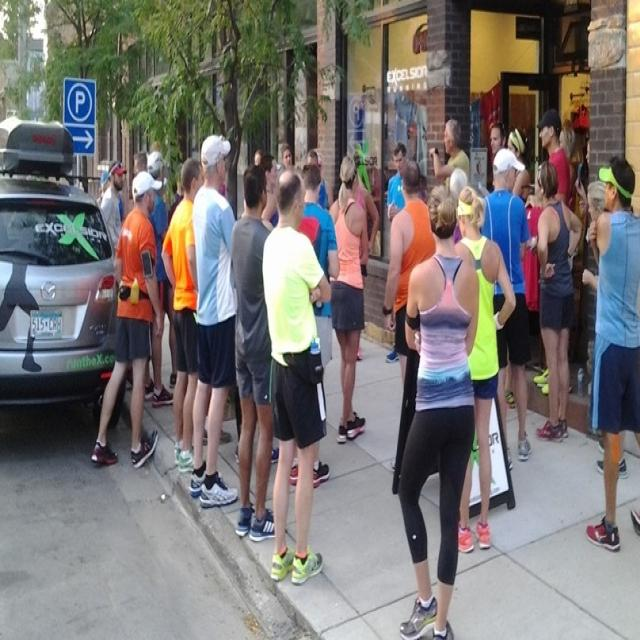body: (395, 181, 480, 638), (259, 161, 334, 586), (448, 186, 518, 553), (88, 168, 165, 470), (583, 152, 639, 554), (186, 132, 245, 509), (469, 145, 533, 474), (228, 162, 277, 545), (532, 157, 586, 445), (230, 166, 280, 471), (159, 154, 205, 475), (581, 178, 629, 482), (288, 160, 332, 490), (381, 156, 436, 394), (327, 153, 368, 447), (532, 105, 572, 396), (143, 149, 175, 409), (481, 114, 589, 190), (349, 154, 380, 364), (384, 140, 409, 365), (252, 146, 329, 212), (93, 152, 149, 220), (428, 118, 471, 184), (98, 160, 128, 248), (500, 366, 517, 413)
